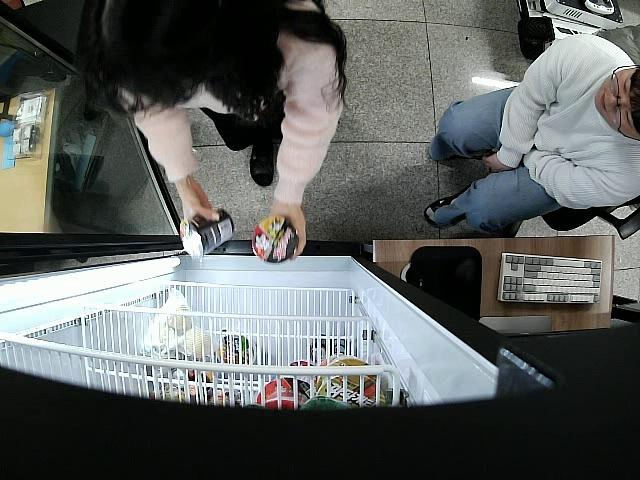00_hand: (269, 198, 307, 263), (179, 182, 221, 226)
08_buldak_S: (179, 211, 235, 259), (252, 216, 299, 264)
